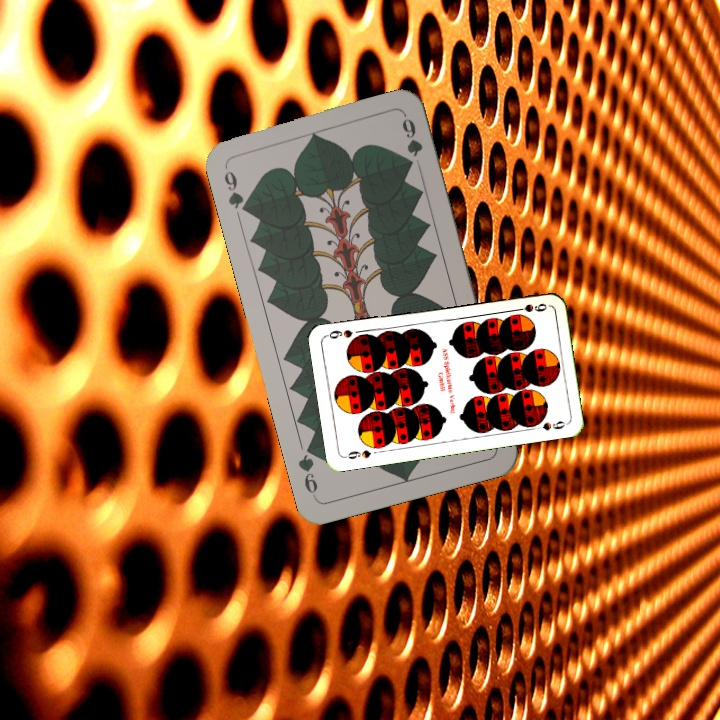G9: (220, 167, 252, 217)
S9: (509, 299, 550, 315), (341, 446, 373, 462)
